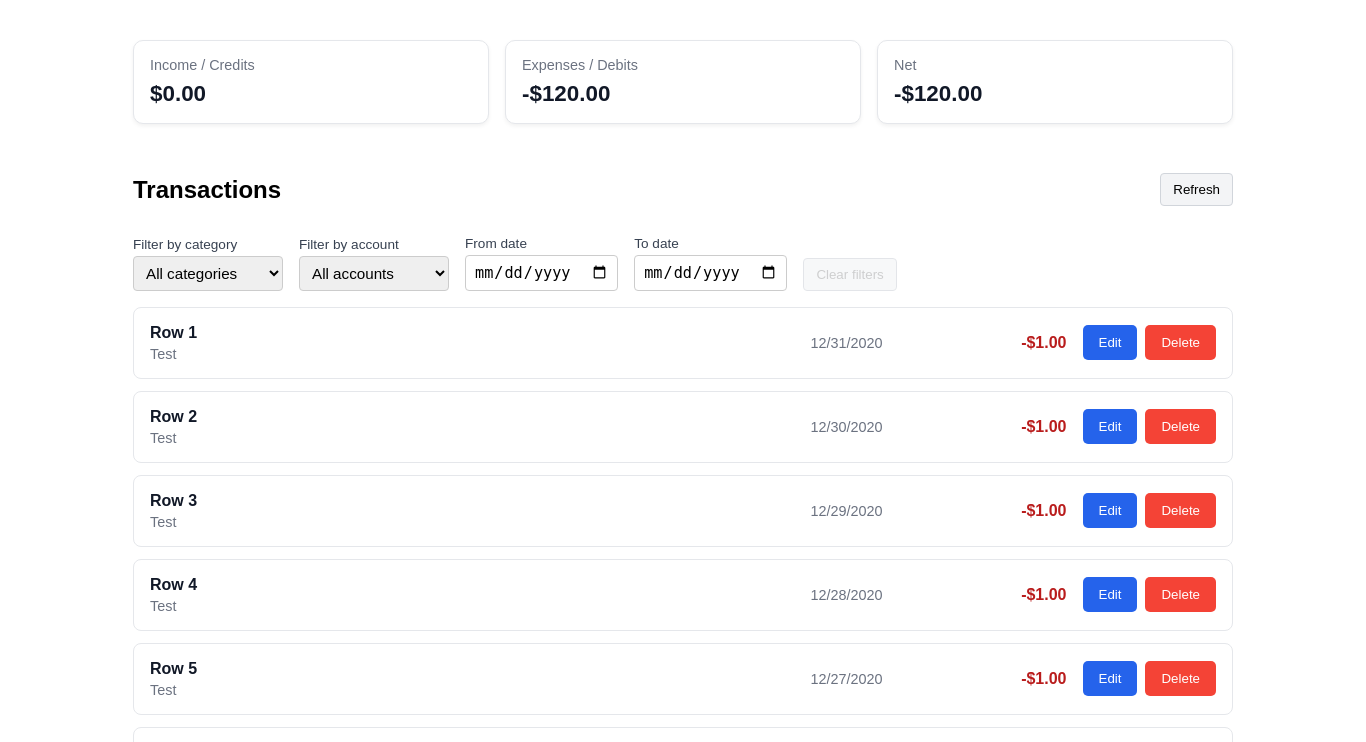
Test: the transaction list › moves a row to its new place when its date is edited
Step 1. Click the button "Edit" in the row of "12/31/2020" → click(1110, 343), box [1082, 325, 1138, 360]
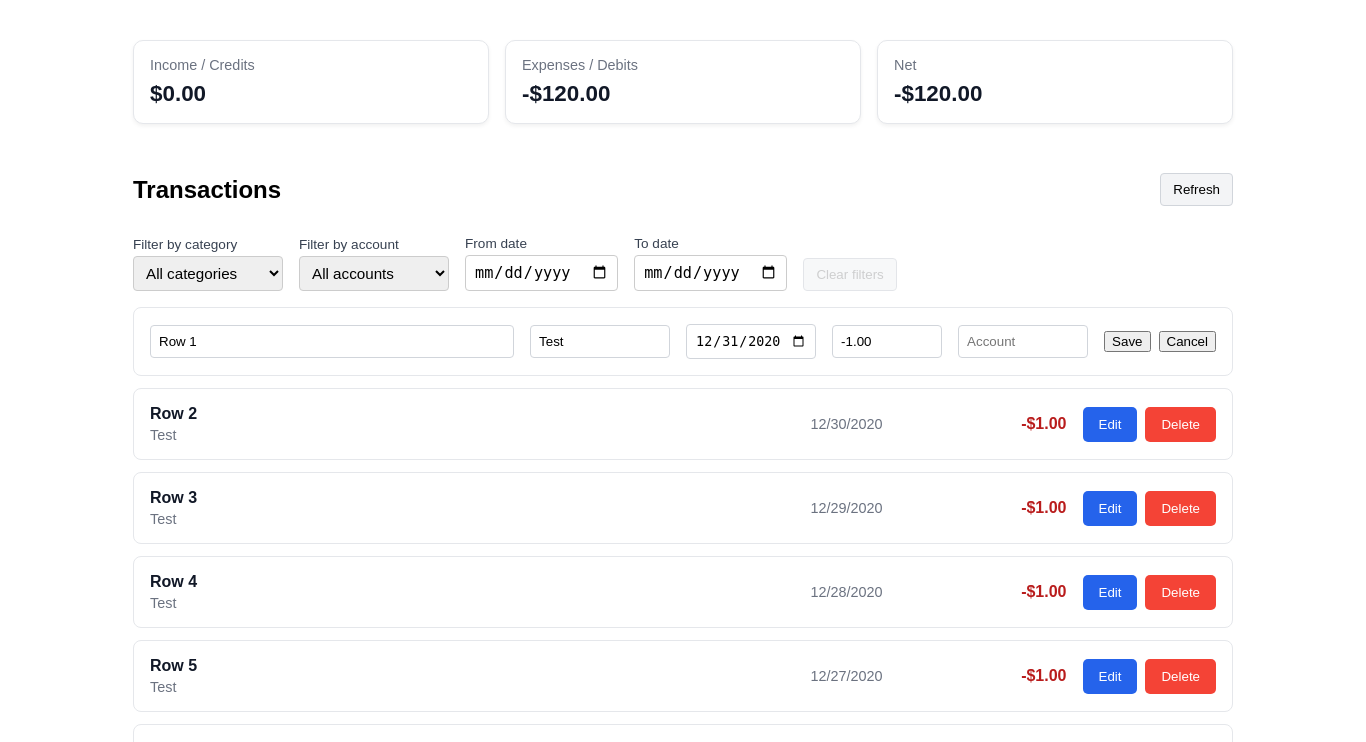
Step 2. Type "2001-01-01" into the date field named "Date" → (751, 341), box [686, 324, 816, 359]
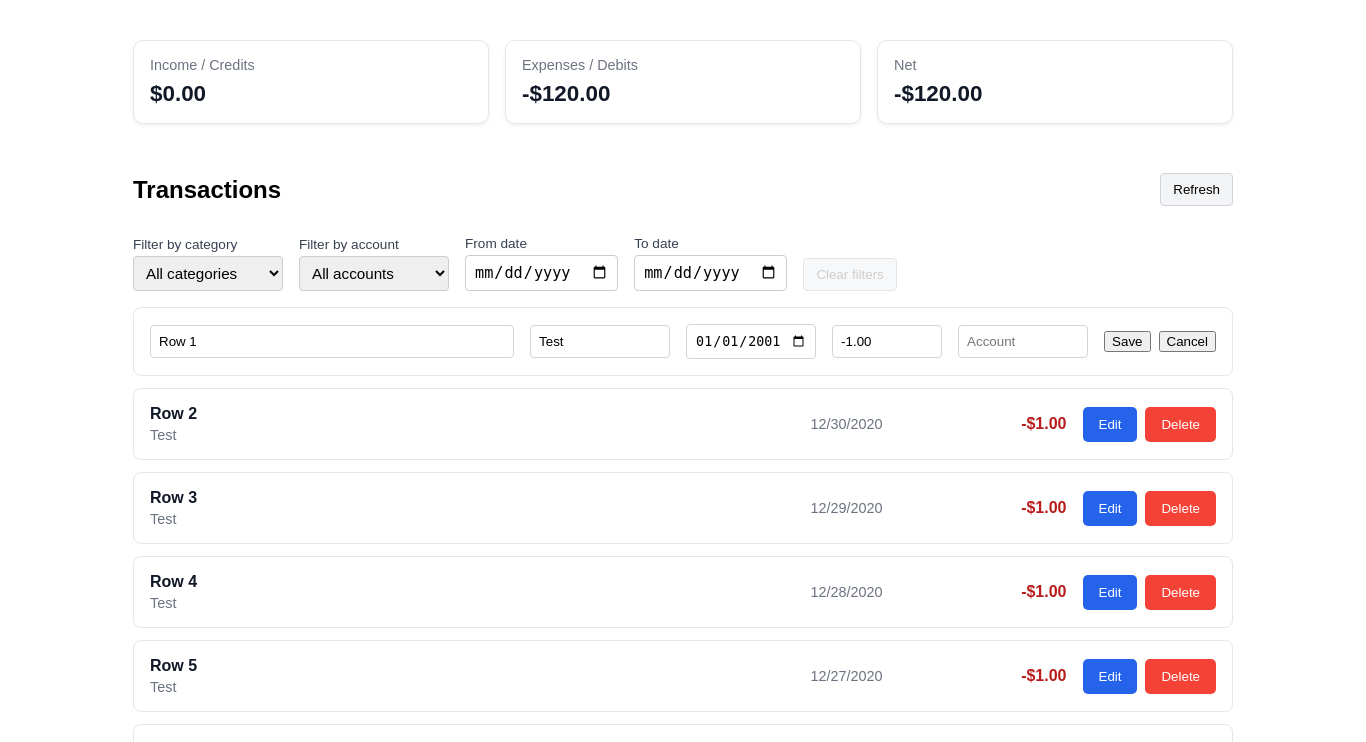
Step 3. Click the button "Save" → click(1127, 342), box [1104, 331, 1150, 352]
(page scrolled)
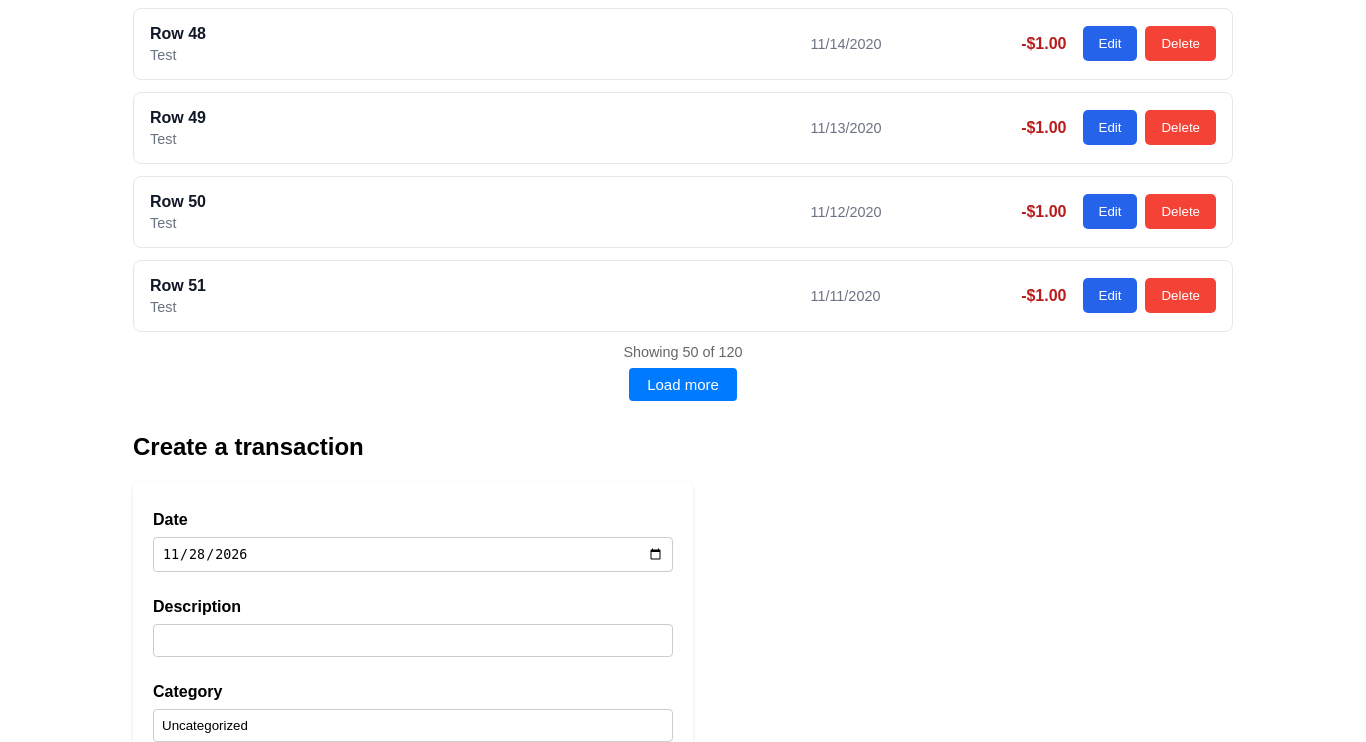
Step 4. Click the button "Load more" → click(683, 384), box [629, 368, 737, 401]
(page scrolled)
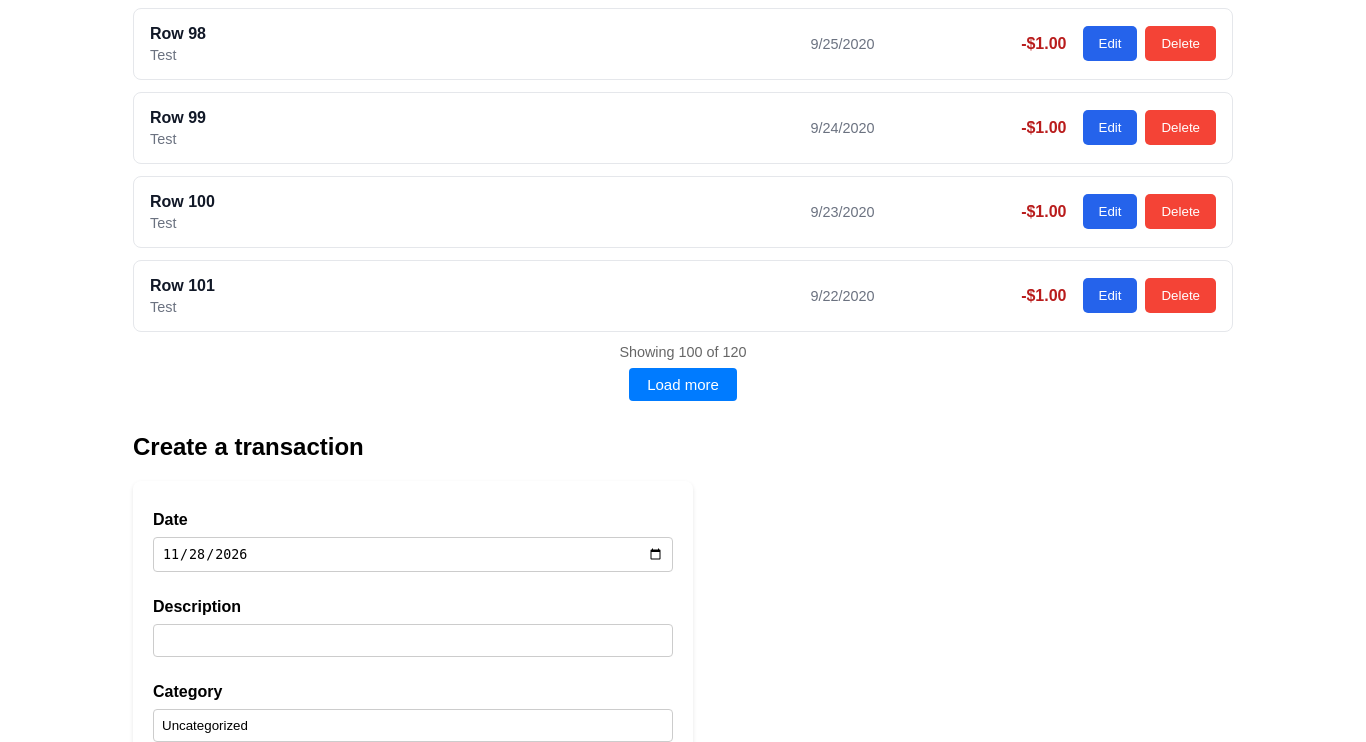
Step 5. Click the button "Load more" → click(683, 384), box [629, 368, 737, 401]
(page scrolled)
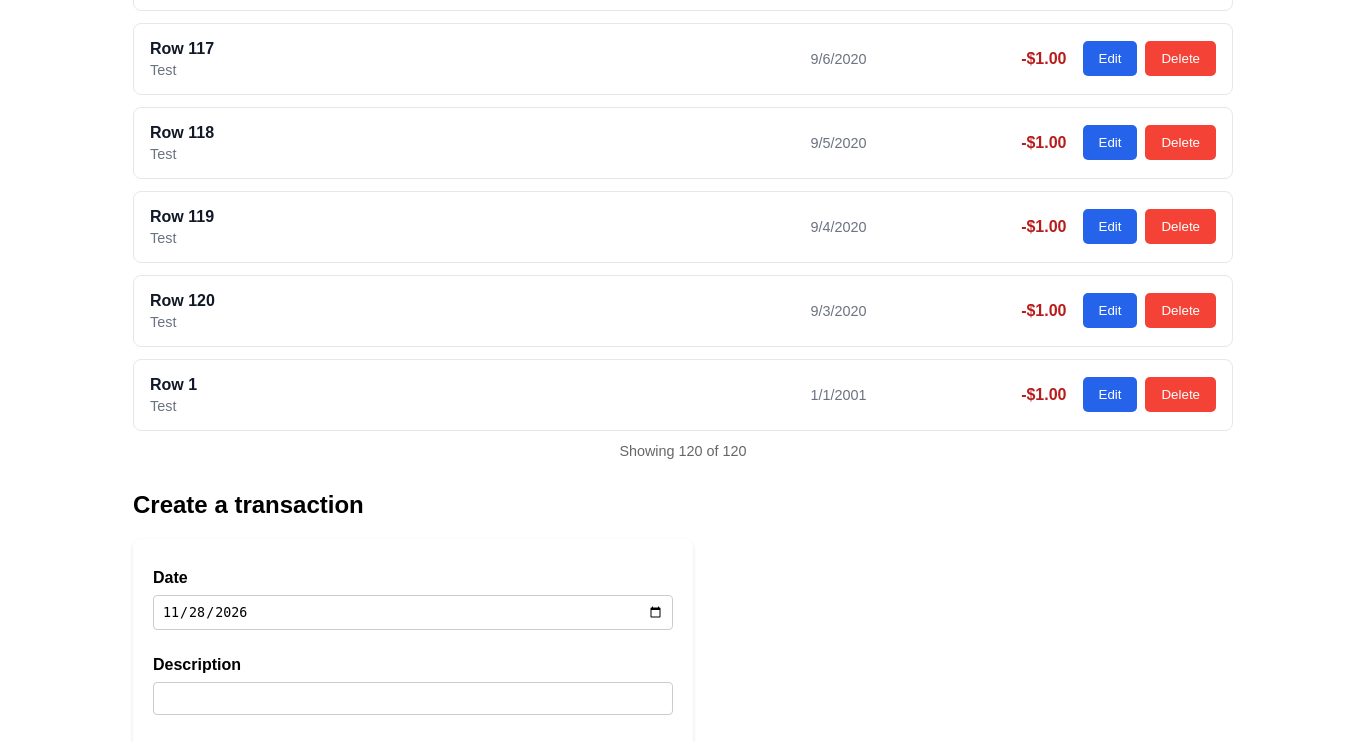
Now the text with class "transaction-description" reads "Row 1", box [150, 376, 197, 393]
